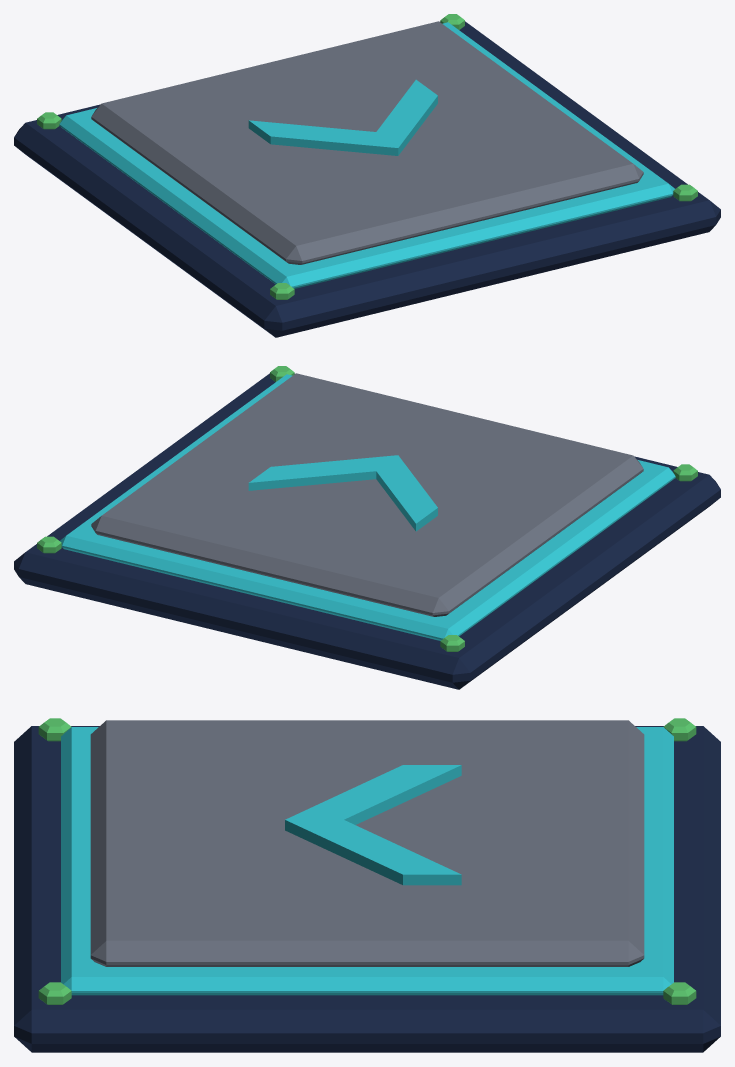
The model's file is pressure_plate.obj.
3 renders of one model, top to bottom at view 1: azimuth 30°, elevation 25°; view 2: azimuth 150°, elevation 25°; view 3: azimuth 270°, elevation 25°, orthographic. The views are drawn at different scales.
Parts seen in each view (by area): view 1: pressure_plate; view 2: pressure_plate; view 3: pressure_plate.
Part boxes in pixels (x1=…): pressure_plate: x1=14, y1=14, x2=720, y2=337; pressure_plate: x1=14, y1=366, x2=720, y2=689; pressure_plate: x1=14, y1=718, x2=720, y2=1052.
Size of the model in its own units: 1.2 by 0.17 by 1.2.
